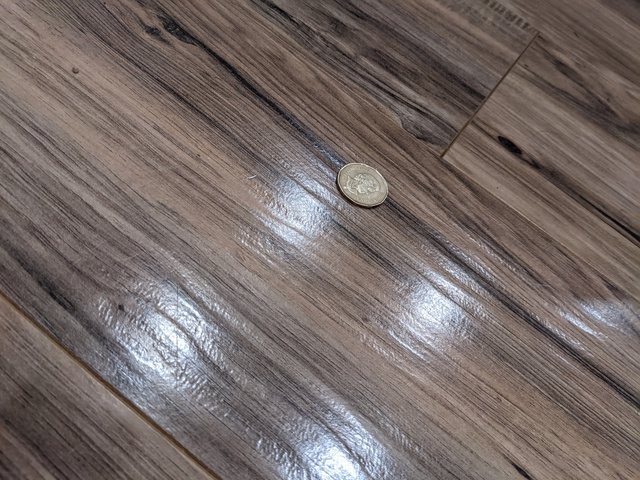loonie: (331, 155, 400, 217)
